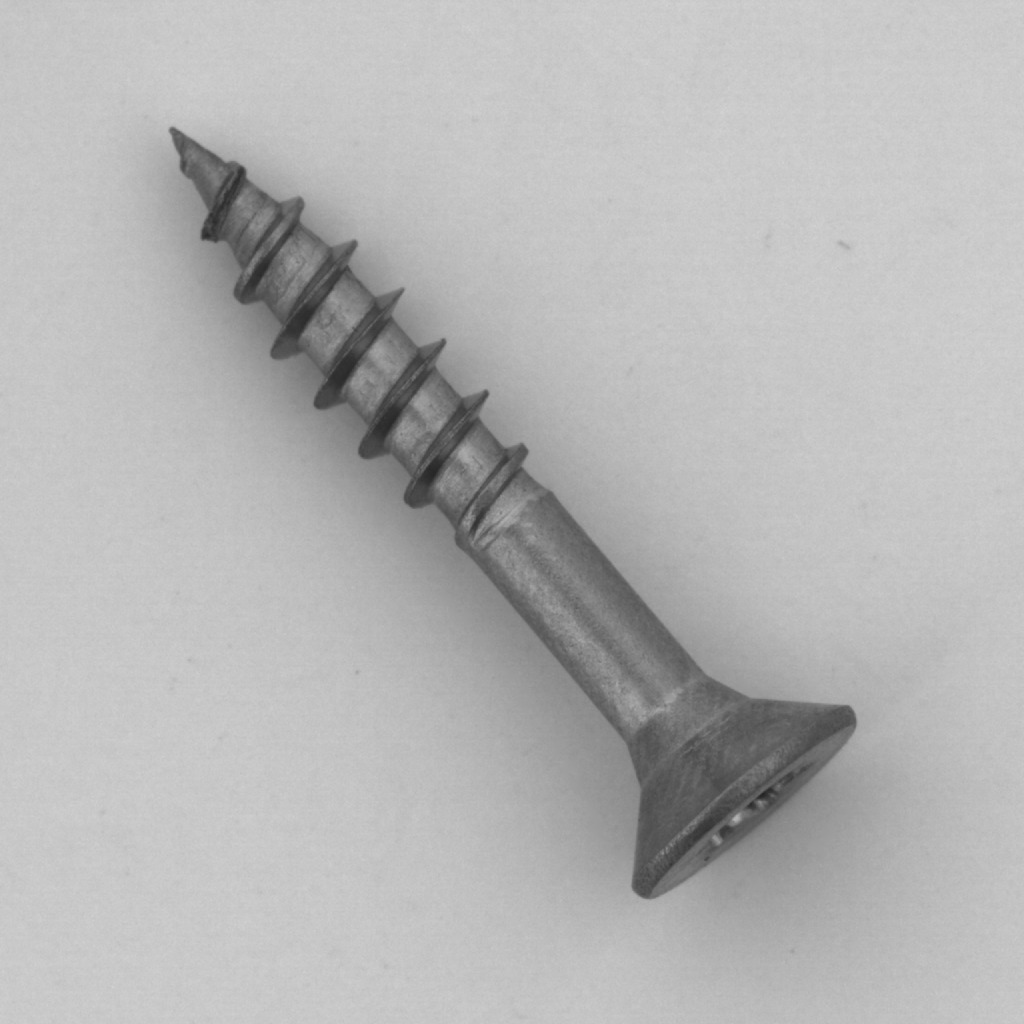good: (145, 96, 866, 909)
